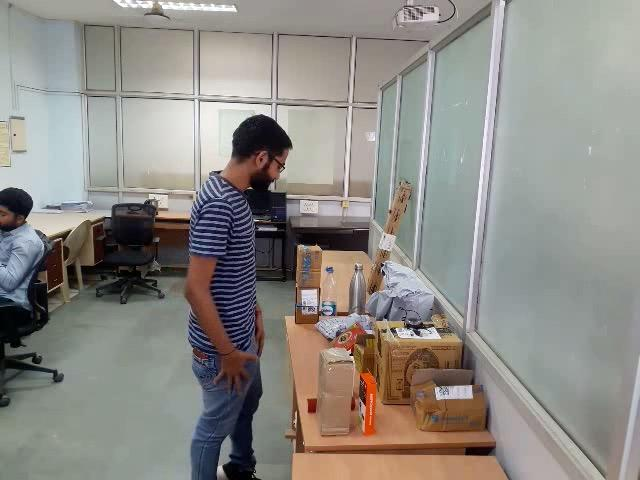Normal: (0, 2, 640, 480)
